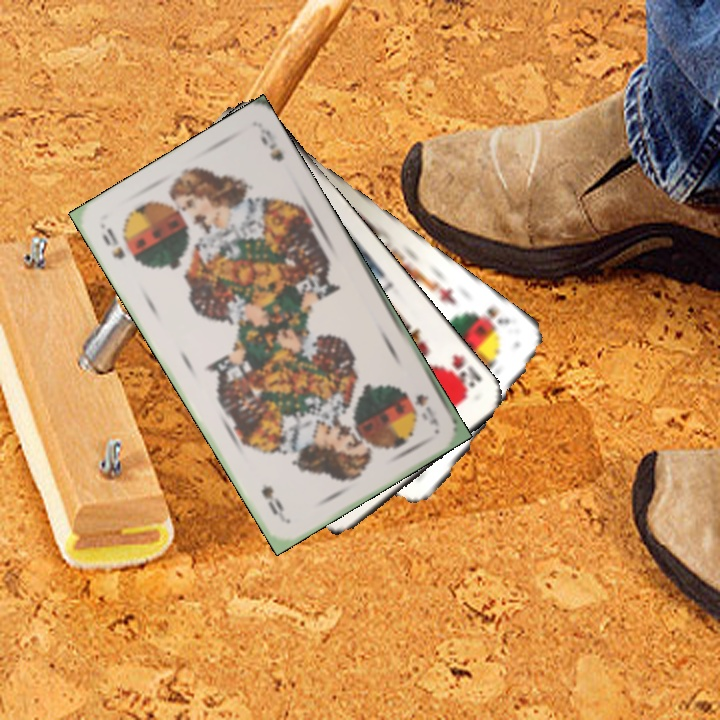HK: (438, 350, 484, 399)
SK: (467, 301, 513, 332)
SO: (97, 221, 128, 262), (410, 390, 441, 428)
